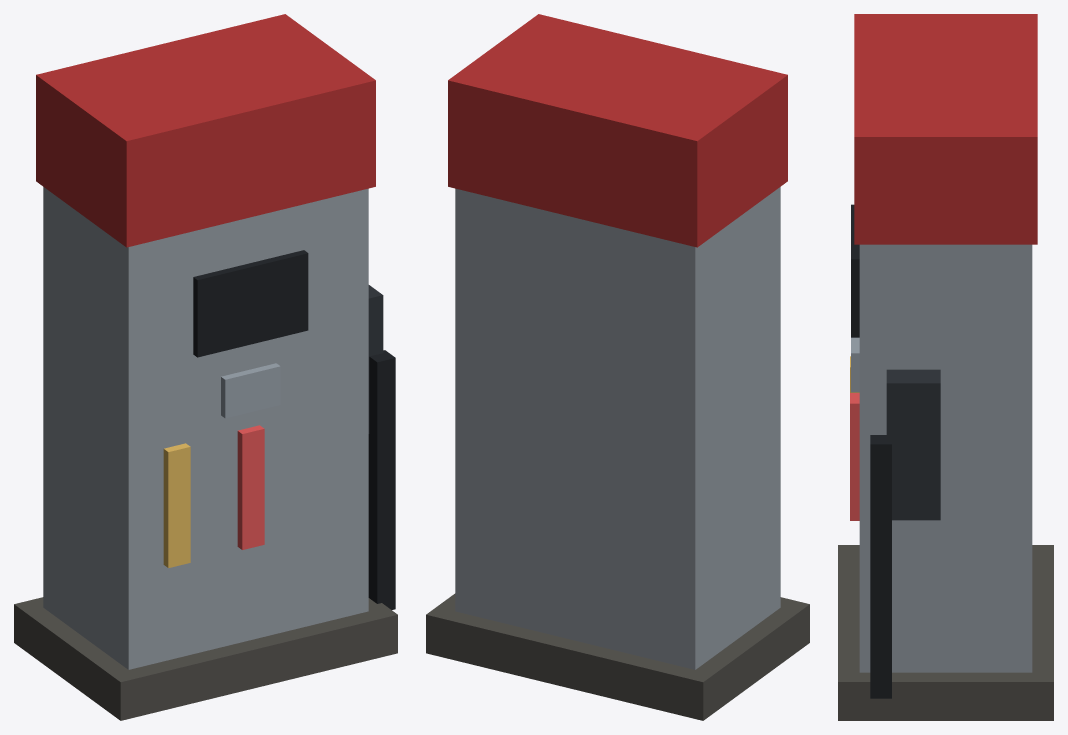
The model's file is prop_fuel_pump.fbx.
3 renders of one model, left to right at view 1: azimuth 30°, elevation 25°; view 2: azimuth 150°, elevation 25°; view 3: azimuth 270°, elevation 25°, orthographic.
Visible parts, largest first — view 1: prop_fuel_pump; view 2: prop_fuel_pump; view 3: prop_fuel_pump.
Part boxes in pixels (left/top/right/bottom): prop_fuel_pump: left=14, top=14, right=397, bottom=720; prop_fuel_pump: left=426, top=14, right=809, bottom=720; prop_fuel_pump: left=838, top=14, right=1053, bottom=720.
Size of the model in its own units: 315 by 590 by 200.
